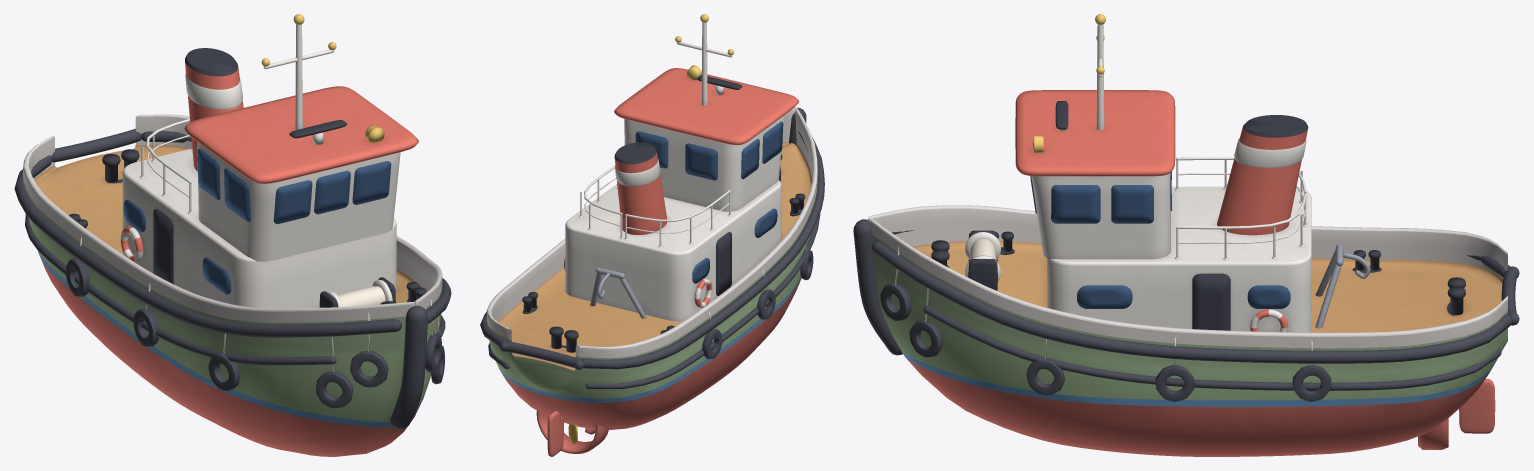
Rendered from tugboat.glb.
3 renders of one model, left to right at view 1: azimuth 30°, elevation 25°; view 2: azimuth 150°, elevation 25°; view 3: azimuth 270°, elevation 25°, orthographic. The views are drawn at different scales.
Visible parts, largest first — view 1: tugboat_body, tugboat_windows, tugboat_winch_drum; view 2: tugboat_body, tugboat_windows, tugboat_rudder; view 3: tugboat_body, tugboat_windows, tugboat_rudder, tugboat_winch_drum.
Part boxes in pixels (box(x1,y1,x2,y2)): tugboat_body: box(14, 14, 451, 456); tugboat_windows: box(123, 149, 391, 294); tugboat_winch_drum: box(327, 279, 392, 307); tugboat_body: box(480, 14, 824, 453); tugboat_windows: box(635, 121, 783, 283); tugboat_rudder: box(547, 411, 563, 456); tugboat_body: box(853, 14, 1519, 456); tugboat_windows: box(1030, 171, 1290, 308); tugboat_rudder: box(1459, 379, 1495, 433); tugboat_winch_drum: box(965, 232, 1000, 280).
Size of the model in its own units: 6.56 by 11.15 by 15.61.
Materials: 6 (1 with a texture image).
